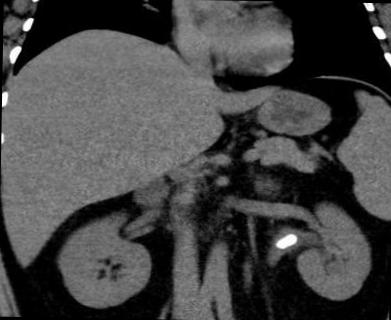Tas_Var: (270, 232, 300, 252)
